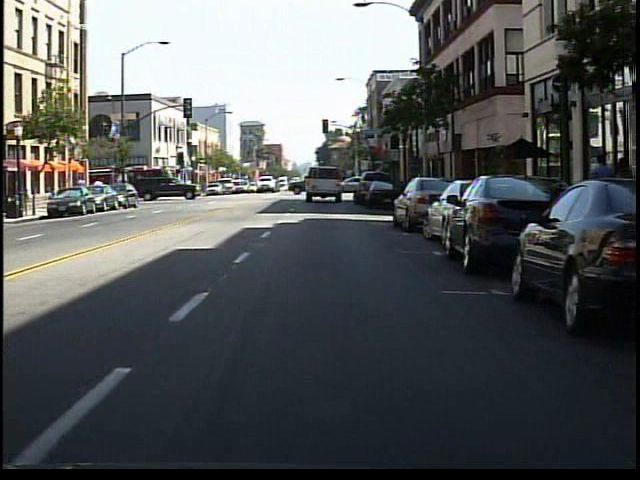person: (583, 148, 612, 240), (609, 155, 634, 235)
